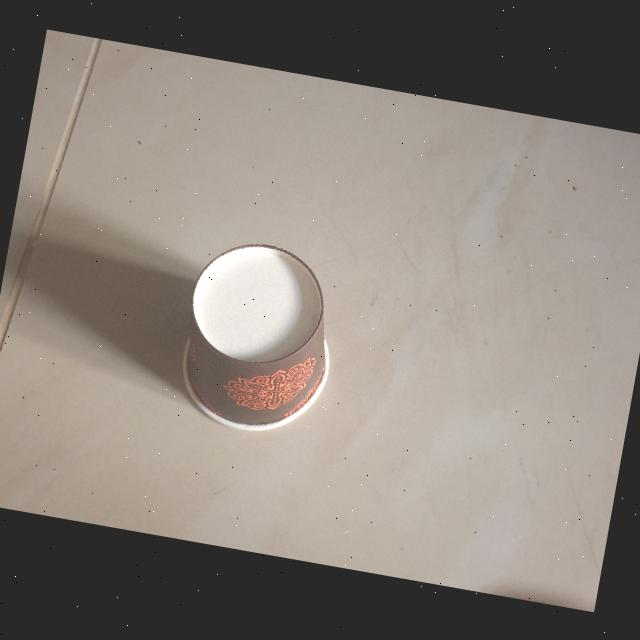trash: (165, 224, 354, 444)
